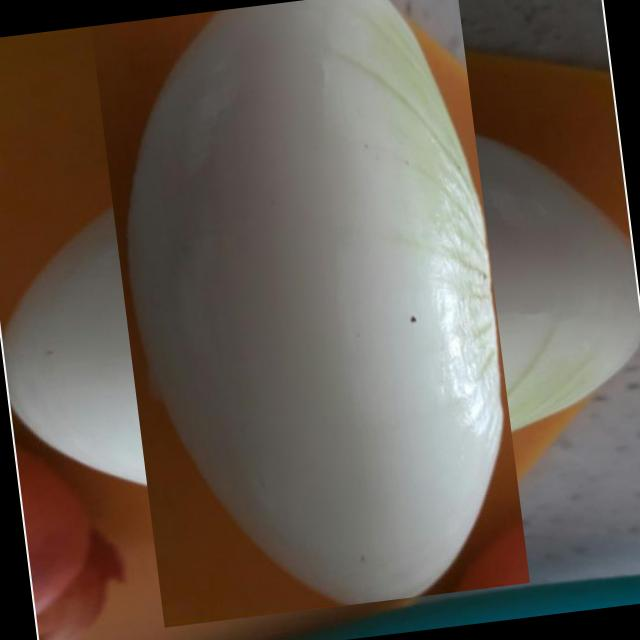Onion: (35, 24, 584, 574)
